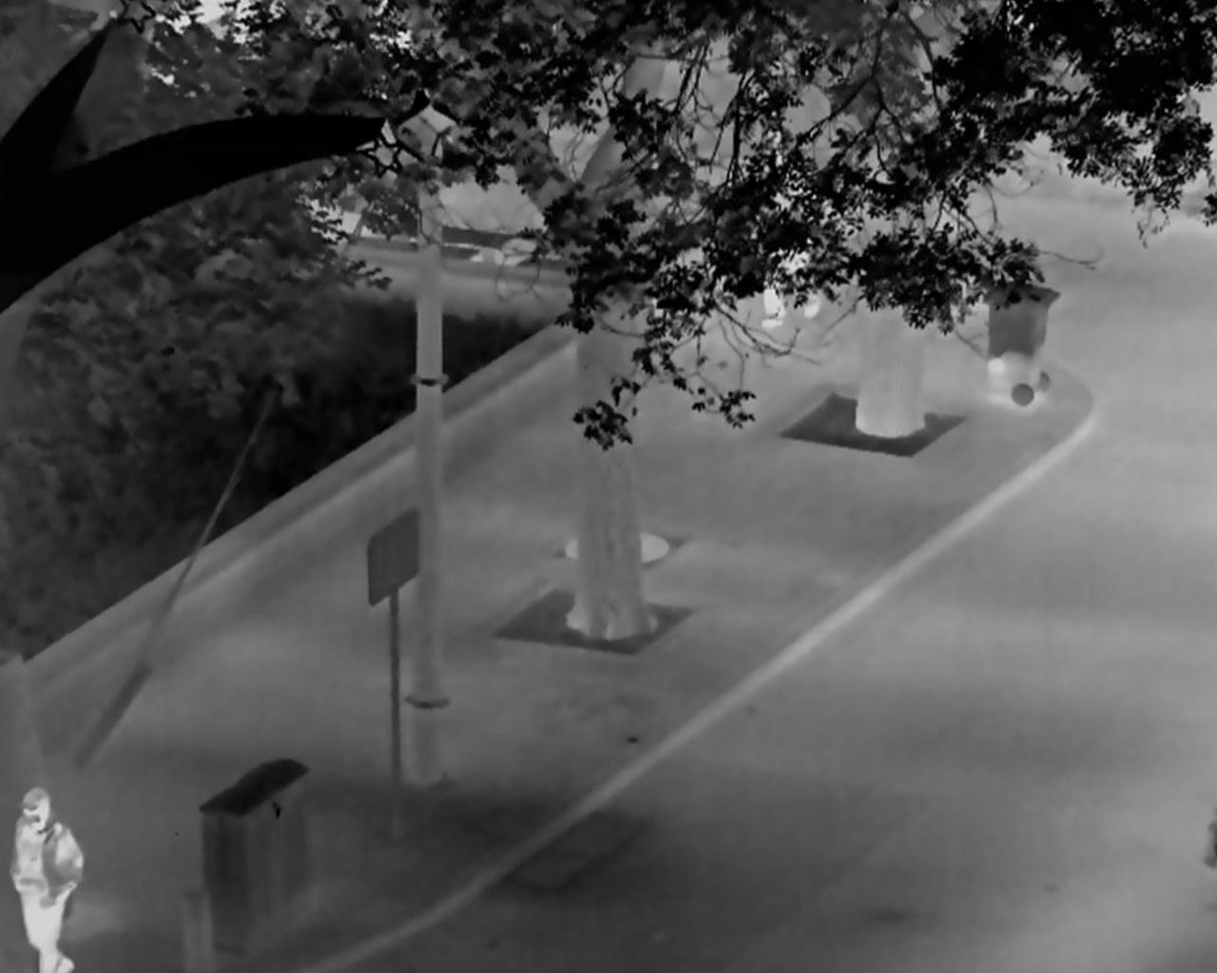person: (743, 139, 830, 327), (9, 784, 85, 973)
